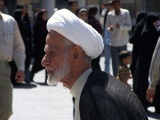male: (37, 19, 83, 89)
